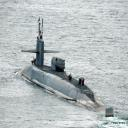submarine: (13, 16, 115, 118)
